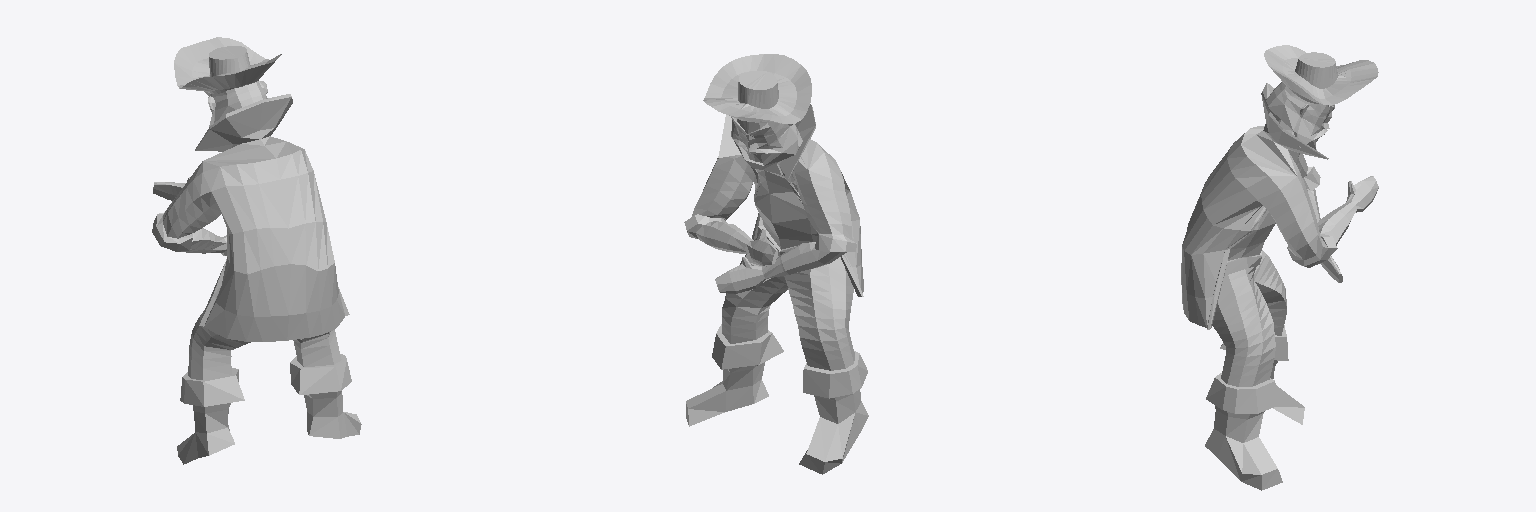
The model's file is pirata_000227.obj.
3 renders of one model, left to right at view 1: azimuth 30°, elevation 25°; view 2: azimuth 150°, elevation 25°; view 3: azimuth 270°, elevation 25°, orthographic.
Visible parts, largest first — view 1: Pirata_PirataH; view 2: Pirata_PirataH; view 3: Pirata_PirataH.
Boxes of the visible parts, box(x1,y1,x2,y2) form: Pirata_PirataH: box(152, 37, 361, 464); Pirata_PirataH: box(684, 54, 868, 474); Pirata_PirataH: box(1181, 45, 1378, 490).
Bounding box in the file's own units: 4.6 × 9.44 × 4.3.